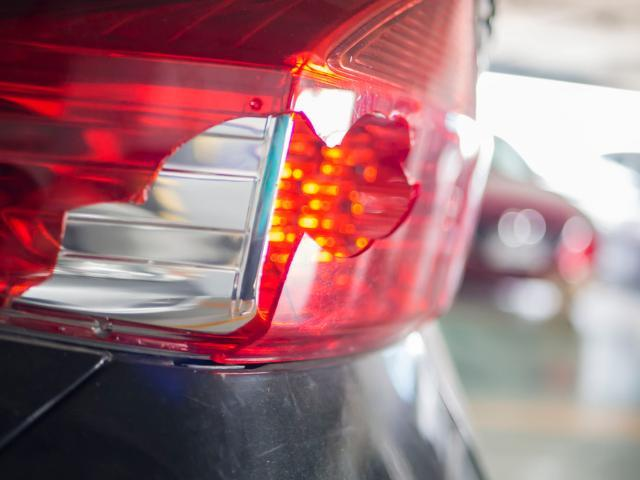Light: (5, 28, 434, 366)
